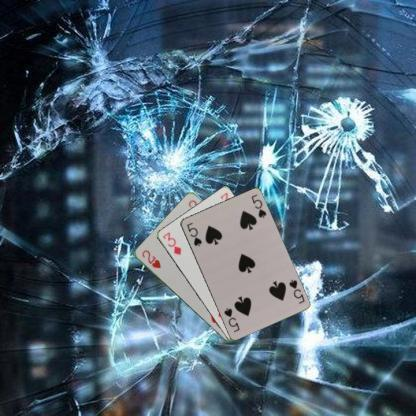2h: (139, 247, 162, 270)
3d: (160, 230, 182, 257)
5s: (286, 276, 306, 306), (184, 220, 203, 247)
